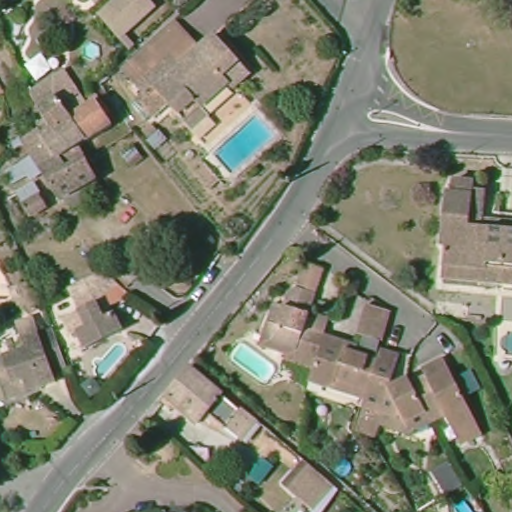pool: (206, 114, 281, 174), (227, 336, 284, 389), (89, 344, 129, 379), (323, 452, 357, 479), (78, 39, 108, 65)
